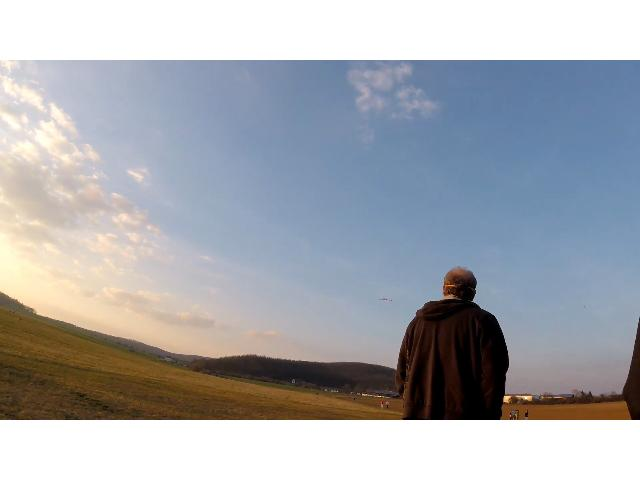Anti-Drone: (373, 292, 397, 310)
